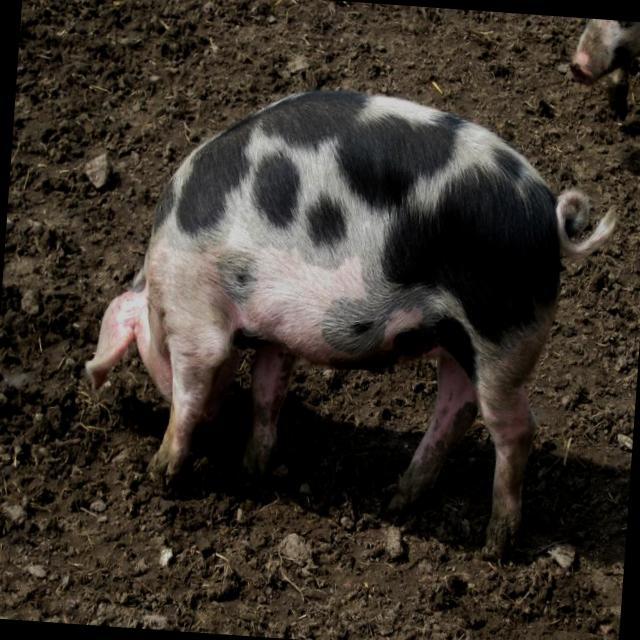pig: (85, 90, 615, 556)
